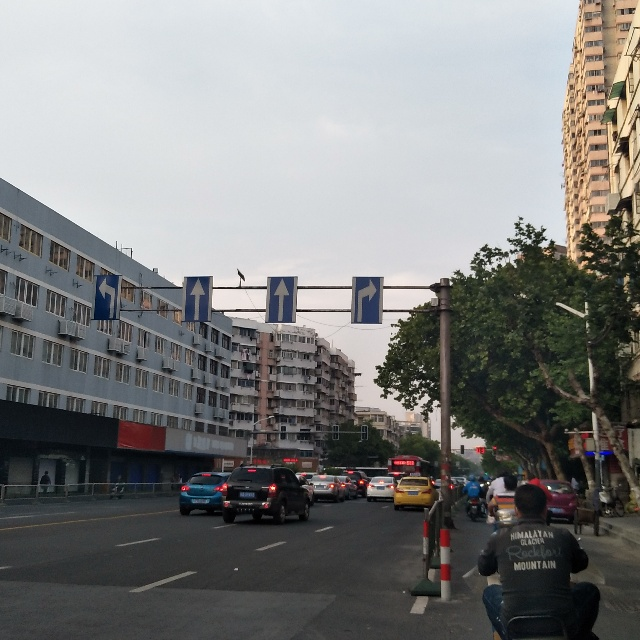left: (90, 275, 122, 321)
right: (351, 276, 383, 324)
straight: (265, 275, 296, 324), (180, 275, 213, 321)
